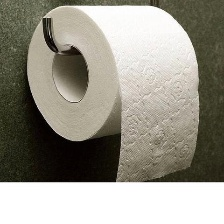tissue: (19, 0, 207, 182)
